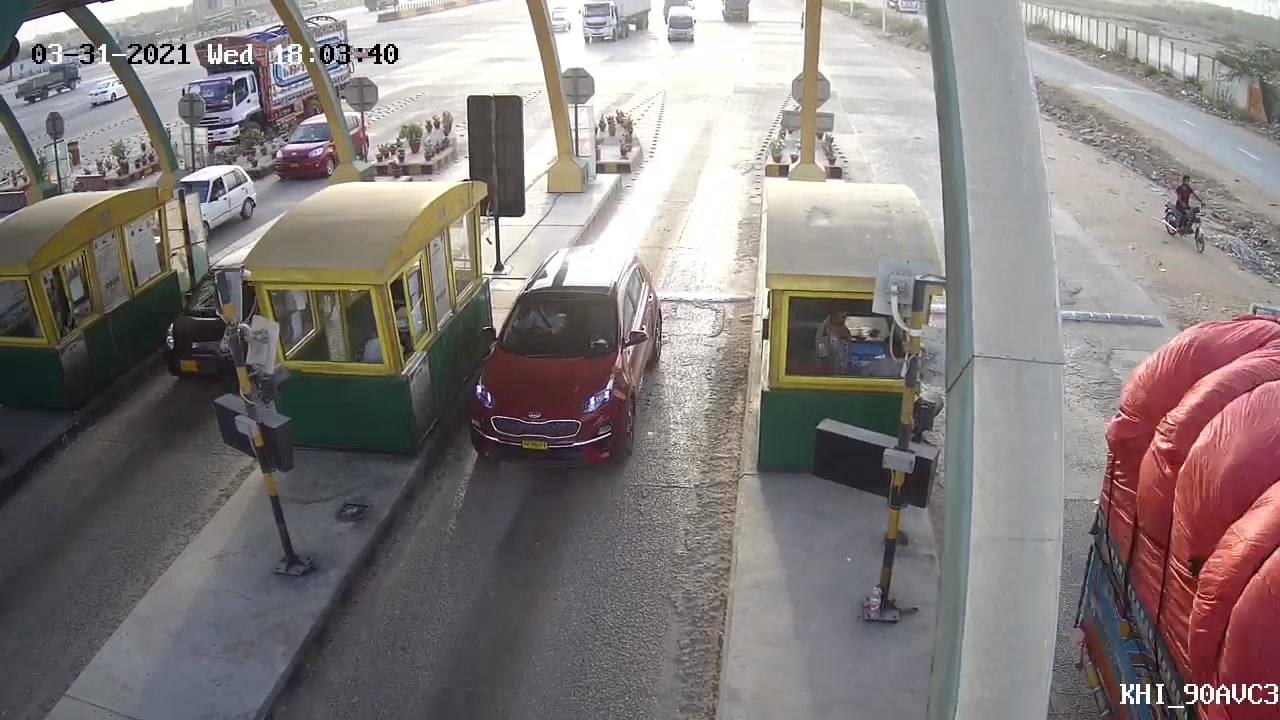F1: (460, 243, 670, 468)
